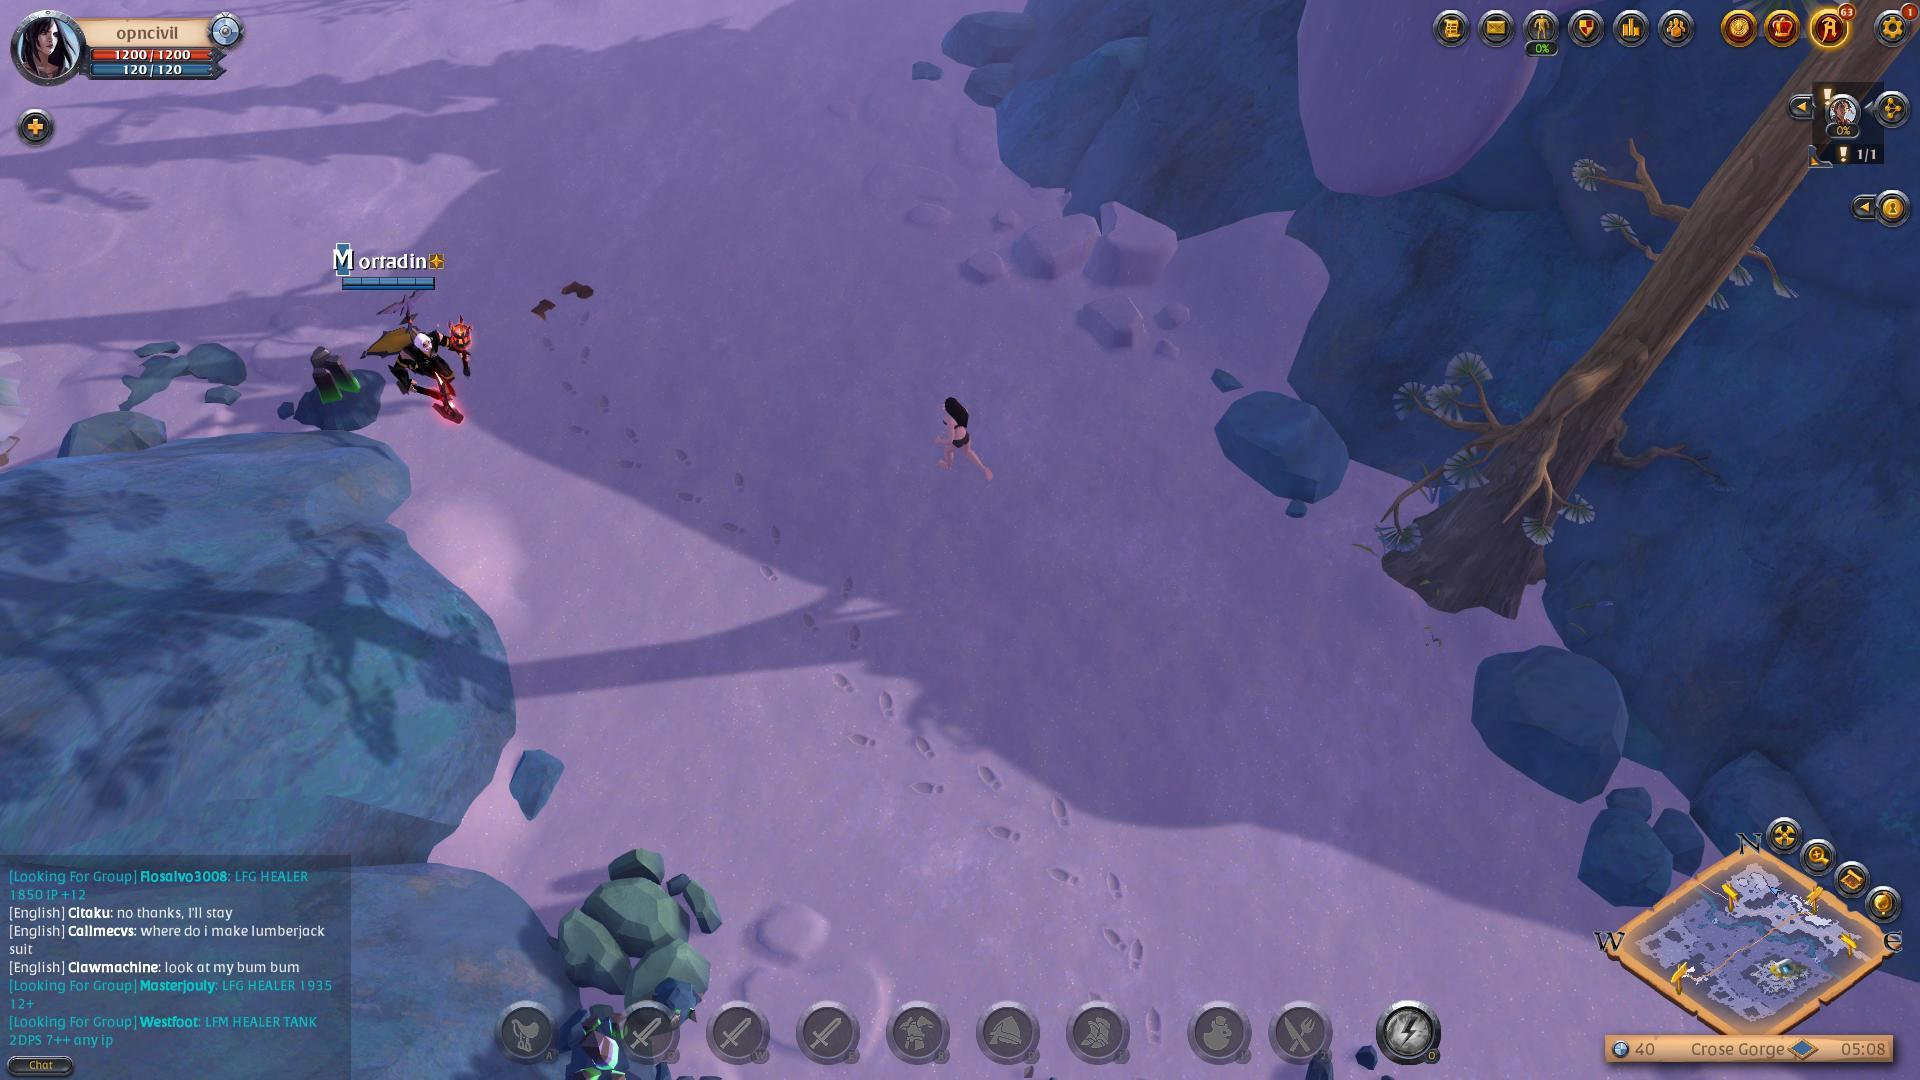sandstone: (549, 845, 733, 1009)
tin_ore: (290, 338, 388, 442)
